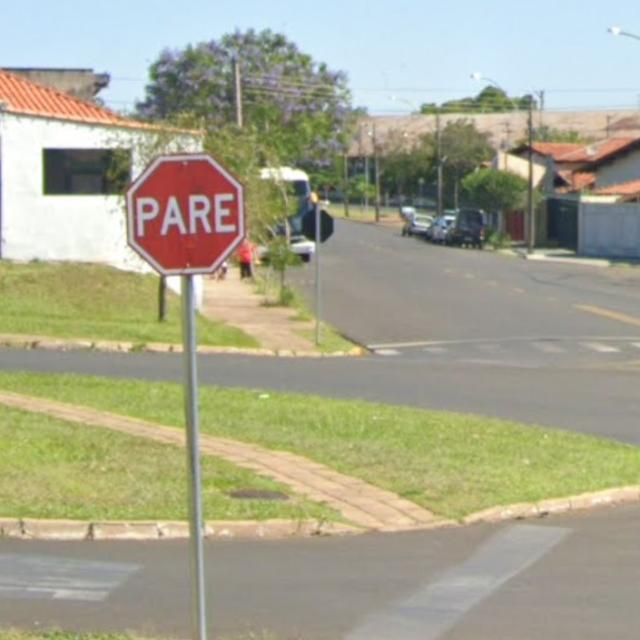stop: (103, 144, 250, 296)
